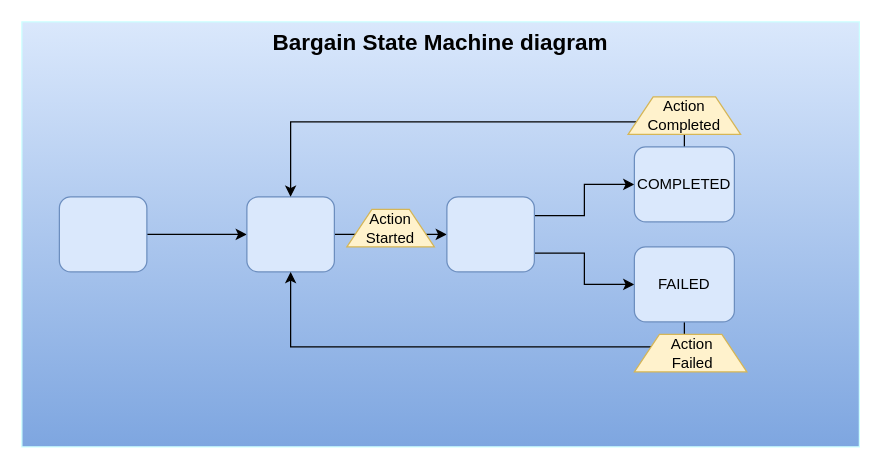
Image size: 881x469. Some labels were removed from this diagram. The shapes that lost their labels are listed below. From the top down, each one's centre as x and y in pixels, then its label:
At (x=102, y=234): "INIT".
At (x=290, y=234): "WAITING".
At (x=490, y=234): "RUNNING".
